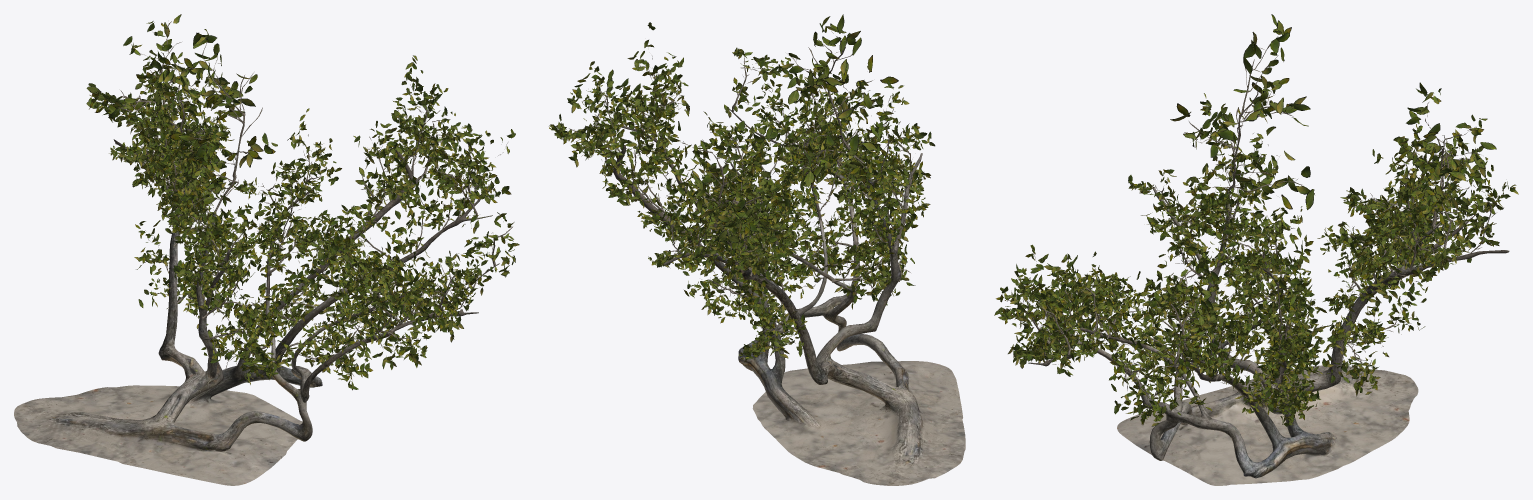
The model's file is arv3-perto.glb.
The picture shows the model from 3 angles, left to right: view 1: azimuth 30°, elevation 25°; view 2: azimuth 150°, elevation 25°; view 3: azimuth 270°, elevation 25°; orthographic projection. The views are drawn at different scales.
Parts seen in each view (by area): view 1: island_tree_03_LOD0; view 2: island_tree_03_LOD0; view 3: island_tree_03_LOD0.
Boxes of the visible parts, box(x1,y1,x2,y2) form: island_tree_03_LOD0: box(14, 14, 519, 485); island_tree_03_LOD0: box(549, 14, 965, 485); island_tree_03_LOD0: box(994, 14, 1518, 485).
Bounding box in the file's own units: 2.98 × 2.65 × 2.93.
Materials: 3 (3 with a texture image).
